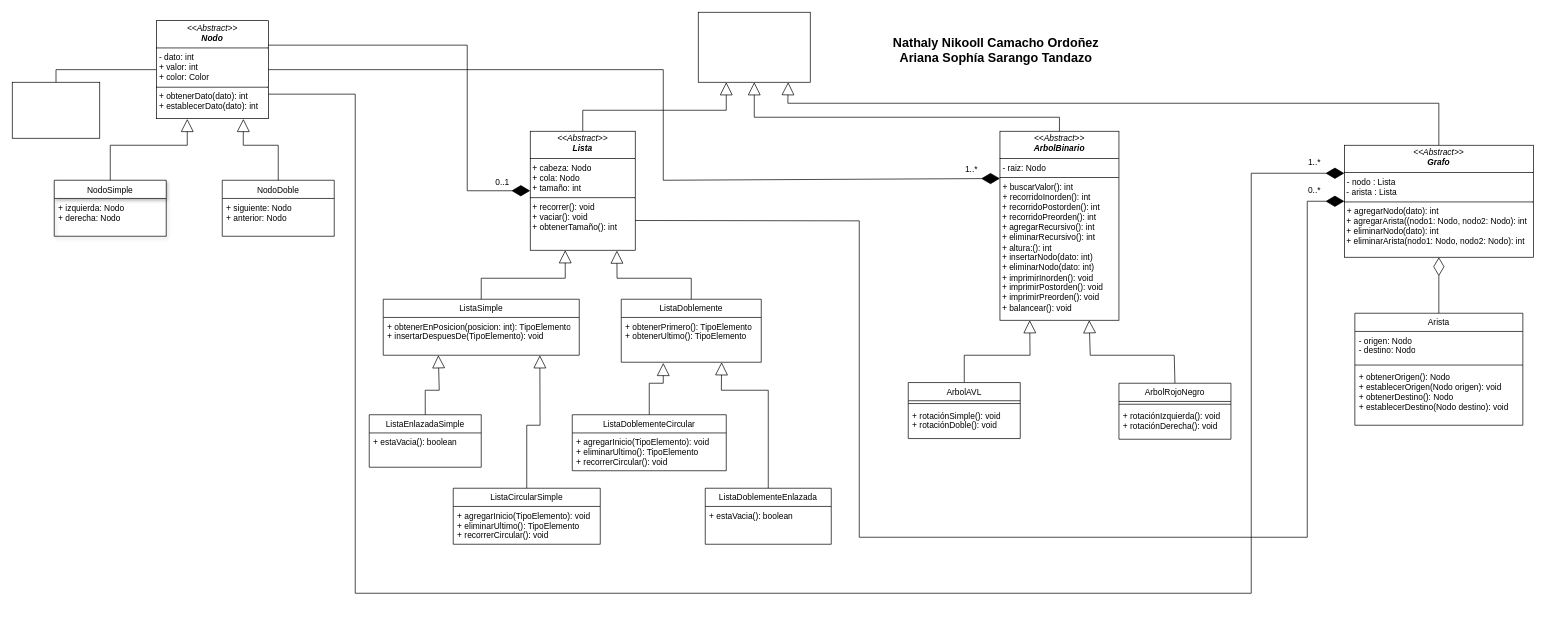
Some shapes in this 1546 by 624 pixel diagram are drawn without their labels. The centre of each missing label's shape, as x and y in pixels:
<<Abstract>> EstructuraDato + agregar(): int + eliminar(): int + insertar(): int: point (754, 47)
<<Enum>> Color ROJO NEGRO: point (56, 110)
